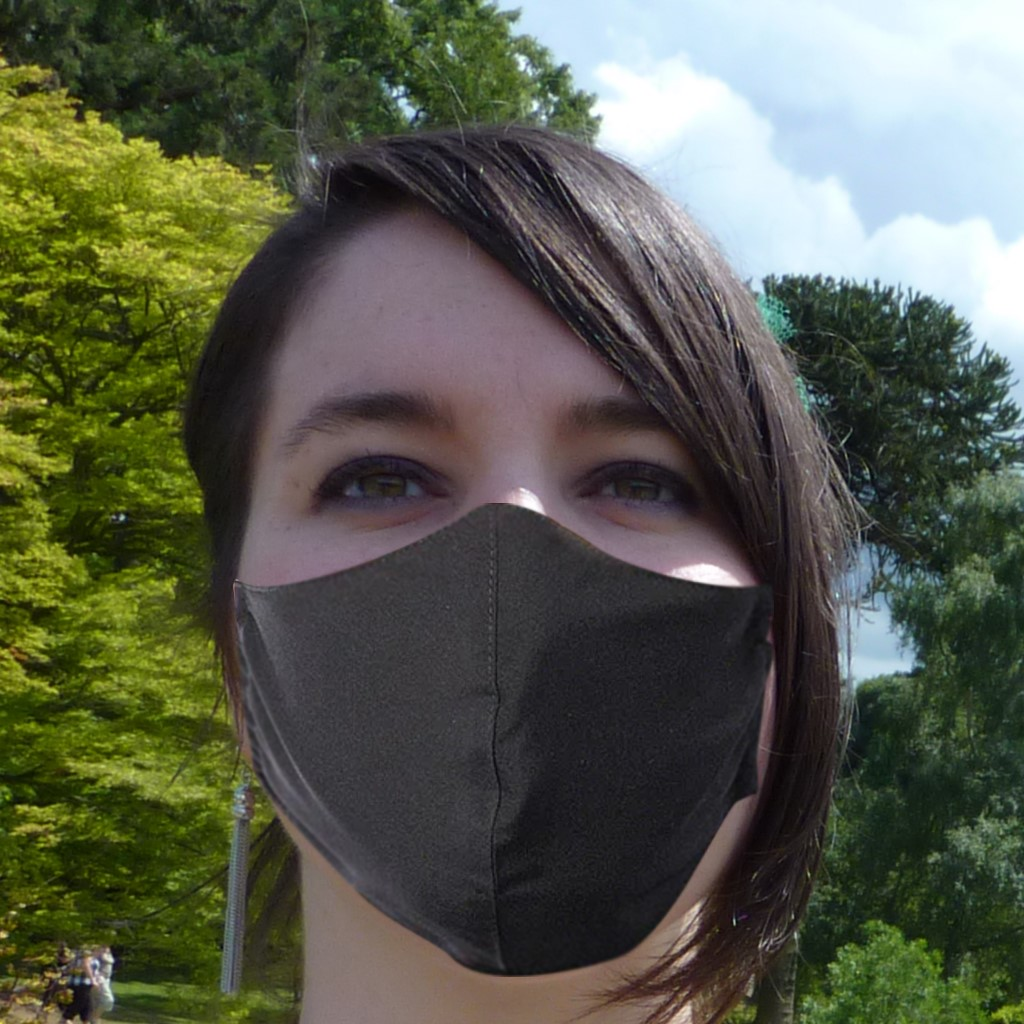con_mascara: (243, 229, 801, 983)
